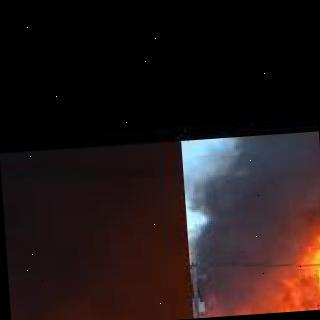fire: (178, 132, 288, 318), (197, 256, 320, 317), (276, 128, 320, 239)
